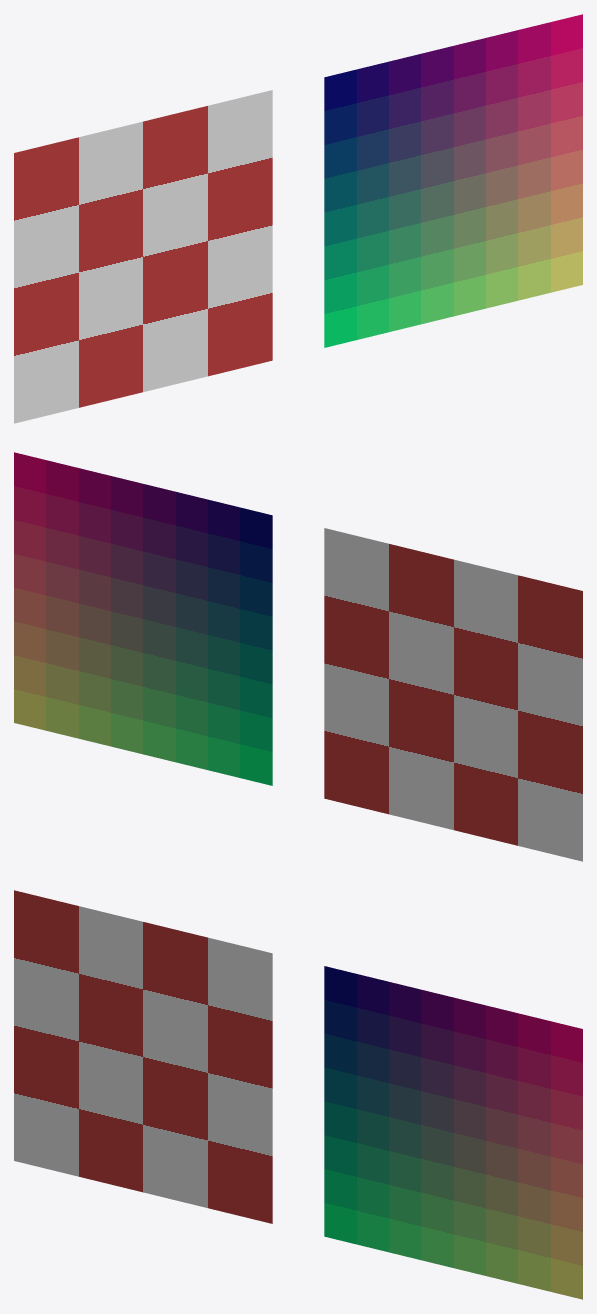
The model's file is pbr_multi_material.gltf.
The picture shows the model from 3 angles, top to bottom: view 1: azimuth 30°, elevation 25°; view 2: azimuth 150°, elevation 25°; view 3: azimuth 330°, elevation 25°; orthographic projection.
Visible parts, largest first — view 1: QuadA, QuadB; view 2: QuadA, QuadB; view 3: QuadA, QuadB.
Part boxes in pixels (bbox=[...]): QuadA: bbox=[14, 90, 272, 423]; QuadB: bbox=[324, 14, 582, 347]; QuadA: bbox=[324, 528, 582, 861]; QuadB: bbox=[14, 452, 272, 785]; QuadA: bbox=[14, 890, 272, 1223]; QuadB: bbox=[324, 966, 582, 1299].
Bounding box in the file's own units: 2.2 × 1 × 0.
Materials: 2 (2 with a texture image).
